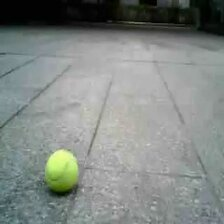tennis: (46, 149, 77, 190)
